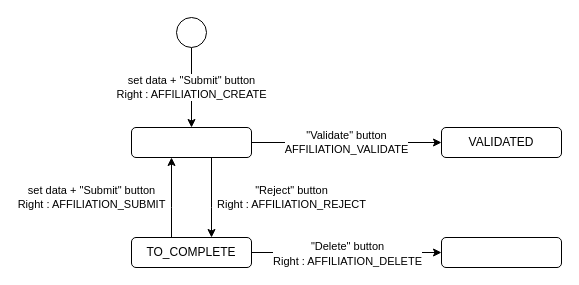
This 579x285 diagram has some shape labels left out. Here are the shapes that lost their labels. From the top down, the centre of each, then its label:
(191,142): SUBMITTED
(501,252): DELETED
